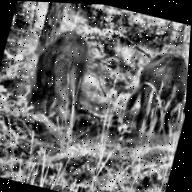boar: (10, 15, 103, 138), (111, 27, 191, 164)
